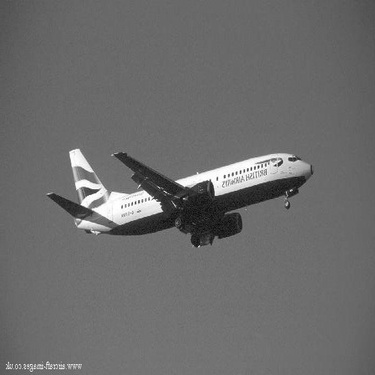airplane: (30, 121, 329, 255)
